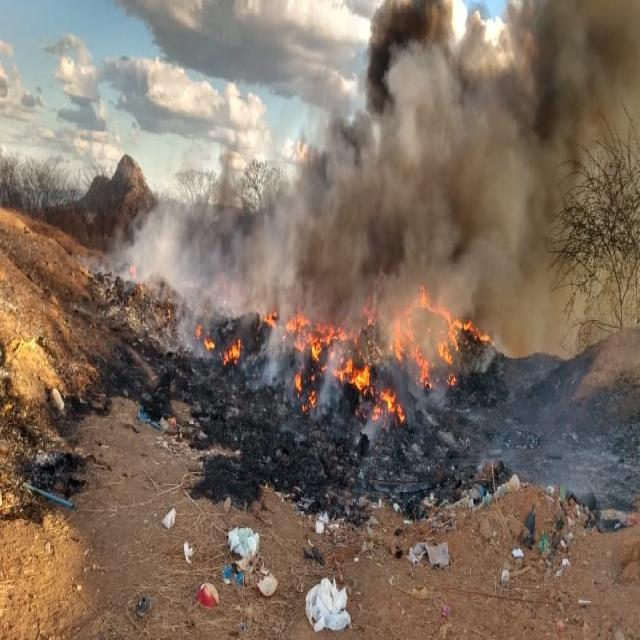Fire: (279, 288, 496, 422), (219, 339, 241, 365), (203, 330, 216, 350), (264, 310, 278, 328), (196, 324, 202, 336)
Smoke: (328, 2, 640, 286), (498, 290, 640, 506), (116, 164, 327, 284)
